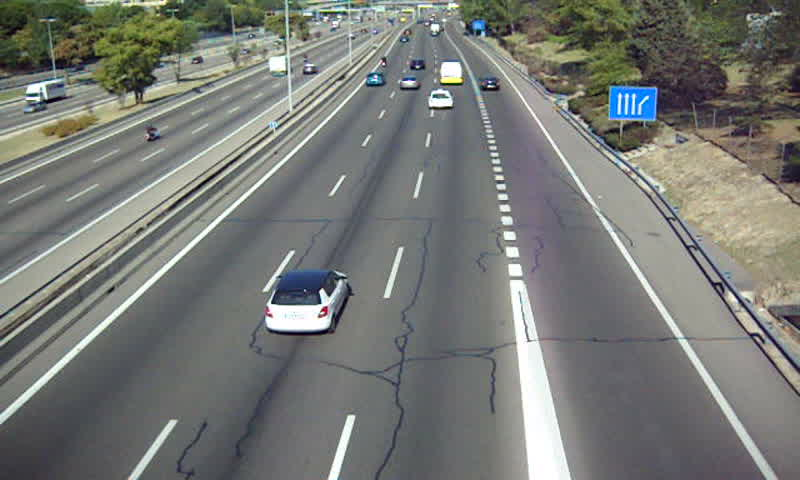car: (266, 271, 348, 333), (426, 89, 454, 109), (398, 76, 420, 91), (364, 73, 383, 90), (478, 77, 500, 91)
van: (438, 62, 463, 86)
